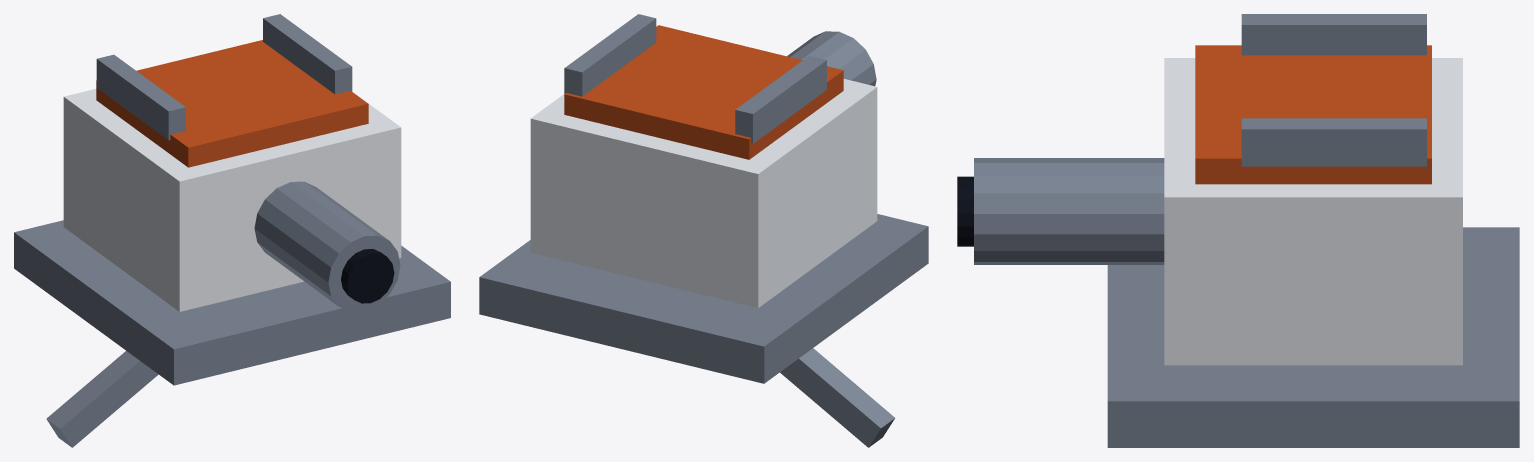
File: Inst_Spectrometer.glb
The picture shows the model from 3 angles, left to right: view 1: azimuth 30°, elevation 25°; view 2: azimuth 150°, elevation 25°; view 3: azimuth 270°, elevation 25°; orthographic projection. The views are drawn at different scales.
Visible parts, largest first — view 1: Inst_Spectrometer; view 2: Inst_Spectrometer; view 3: Inst_Spectrometer.
Part boxes in pixels (<box>): Inst_Spectrometer: <box>14,14,450,447</box>; Inst_Spectrometer: <box>479,14,928,447</box>; Inst_Spectrometer: <box>957,14,1519,447</box>.
Size of the model in its own units: 0.4588 by 0.4601 by 0.546.
